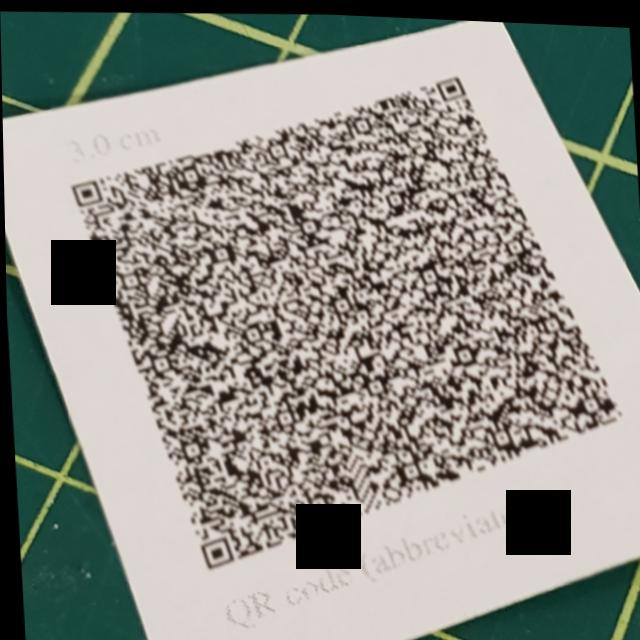QR_CODE: (46, 25, 640, 599)
